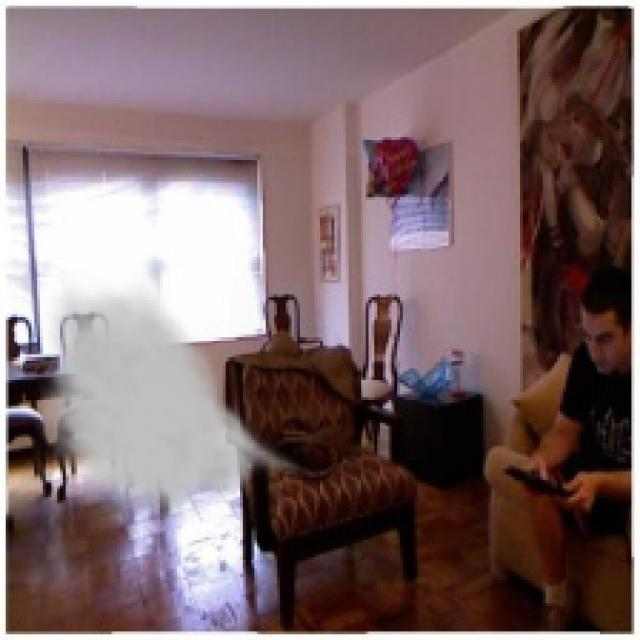Smoke: (34, 271, 306, 526)
